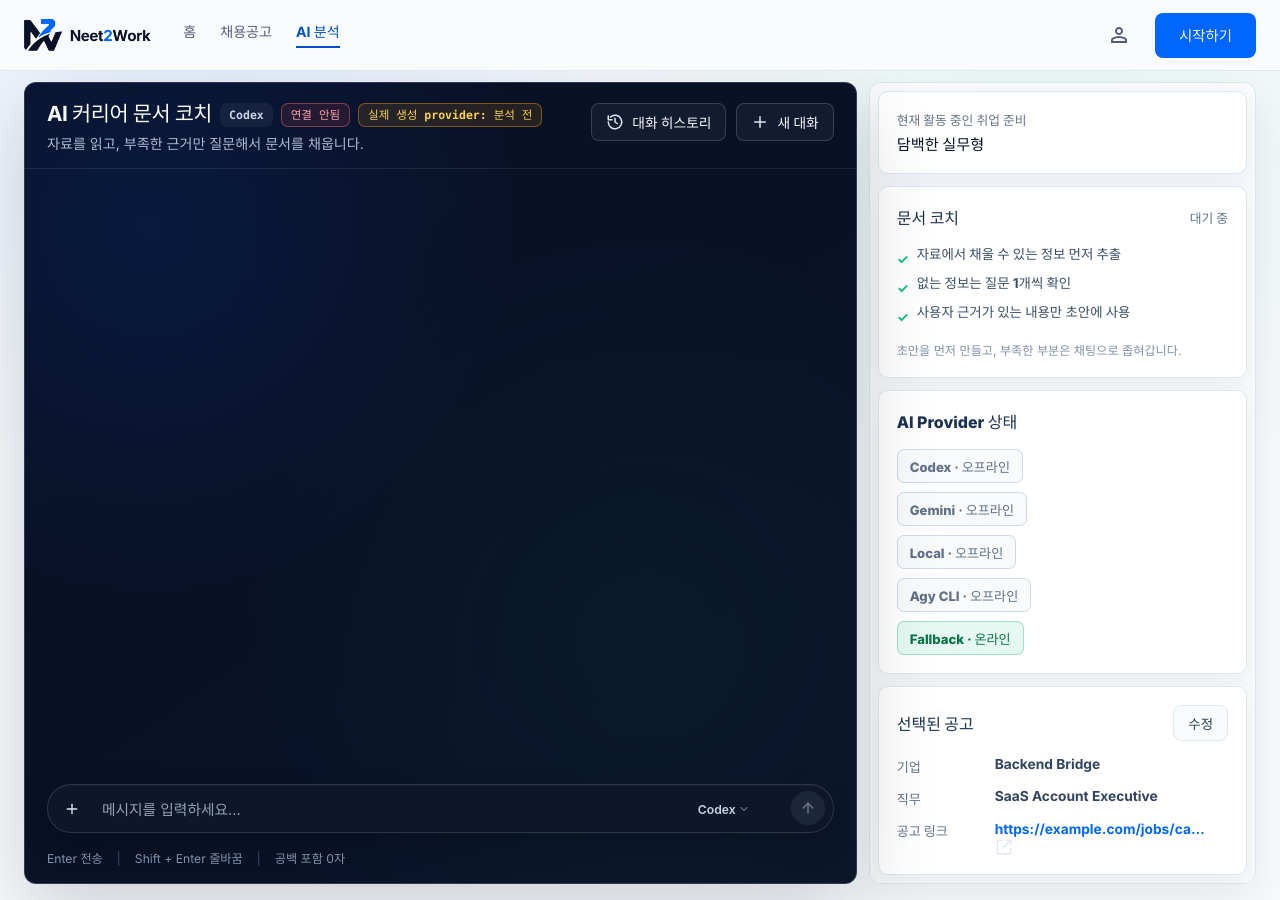
Test case: AIDraftChatBuilder job context › uses job description keywords for ATS when the selected job has no skill tags
The width and height of the screenshot is (1280, 900).
Expected: the text "SaaS Account Executive" is shown, [995,790,1158,806]
In the text box with placeholder "메시지를 입력하세요...": (377, 810) [98,794,657,826], type "SaaS account executive로 sales pipeline을 관리하고 customer success 팀과 협업했습니다. 신규 revenue 기회를 분석해 전환율을 20% 개선했습니다."
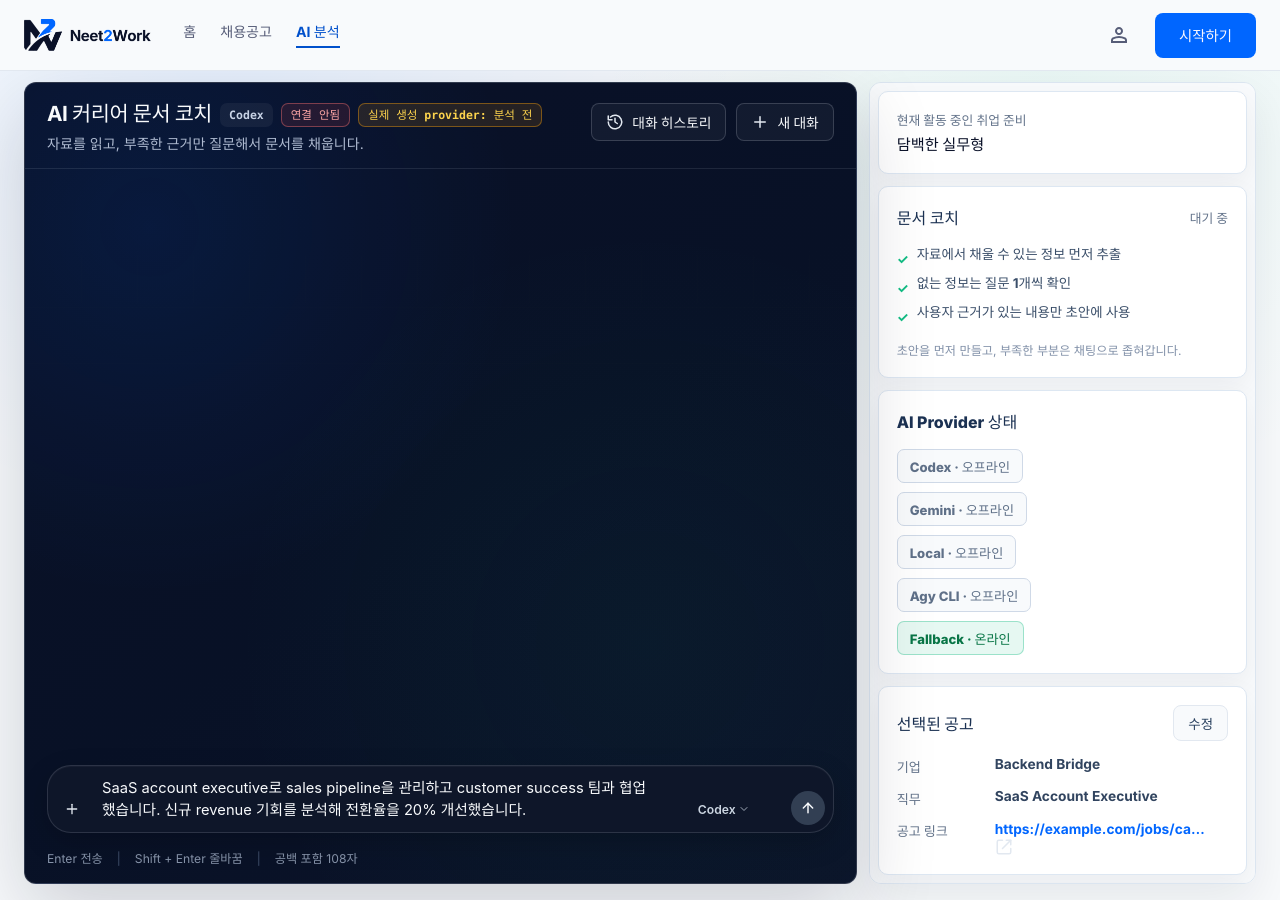
Press Enter in the text box with placeholder "메시지를 입력하세요...", box [98,772,657,826]
(page scrolled)
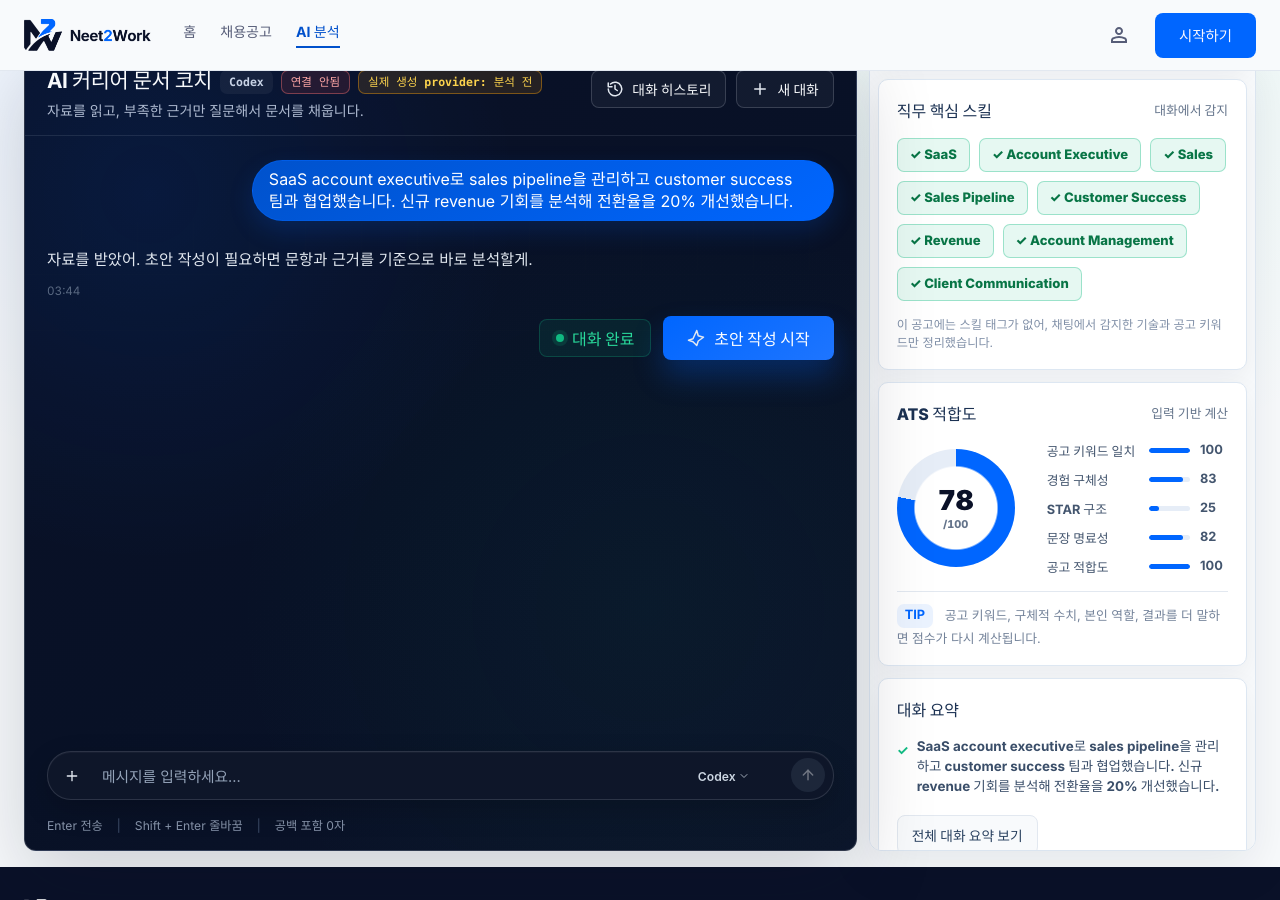
Result: the text "자료를 받았어. 초안 작성이 필요하면 문항과 근거를 기준으로 바로 분석할게." is shown at [47,247,533,274]
Result: the text "입력 기반 계산" is shown at [1151,403,1228,422]
Result: the element showing "공고 키워드 일치 100" is shown at [1047,441,1228,460]
